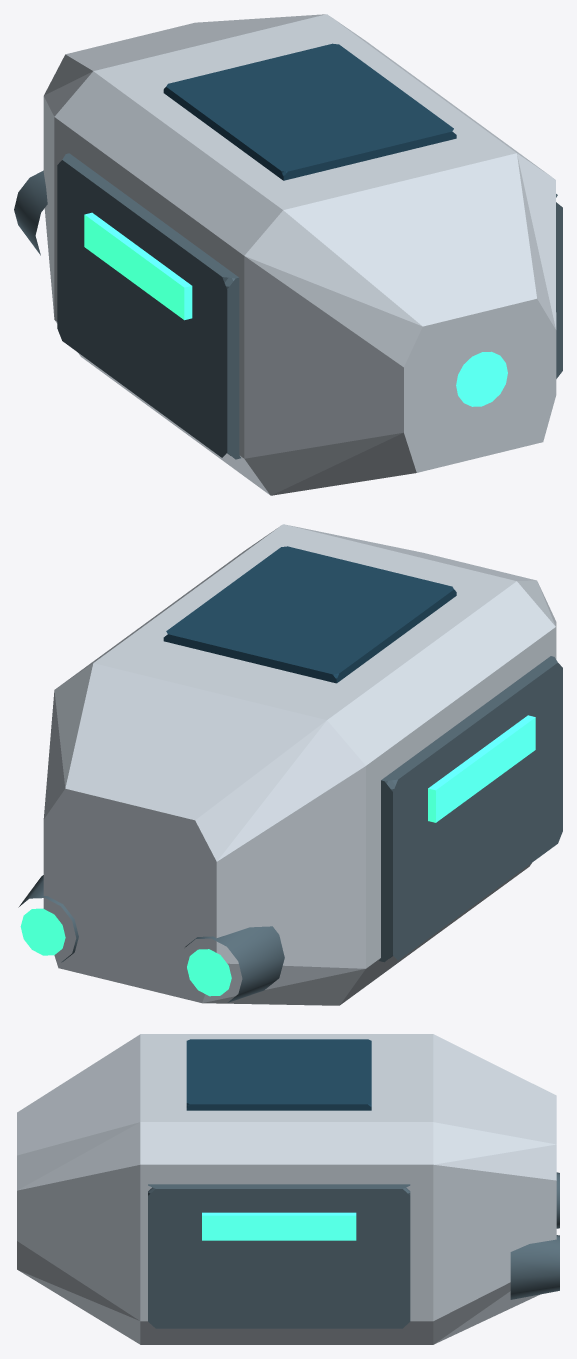
File: escape_pod.glb
3 views of the same model, one above another, from view 1: azimuth 30°, elevation 25°; view 2: azimuth 150°, elevation 25°; view 3: azimuth 270°, elevation 25° (orthographic). The views are drawn at different scales.
Visible parts, largest first — view 1: Pod; view 2: Pod; view 3: Pod.
Boxes of the visible parts, box(x1,y1,x2,y2) form: Pod: box(14, 14, 562, 495); Pod: box(18, 524, 562, 1005); Pod: box(17, 1034, 559, 1344).
Bounding box in the file's own units: 1.01 × 0.8025 × 1.78.
